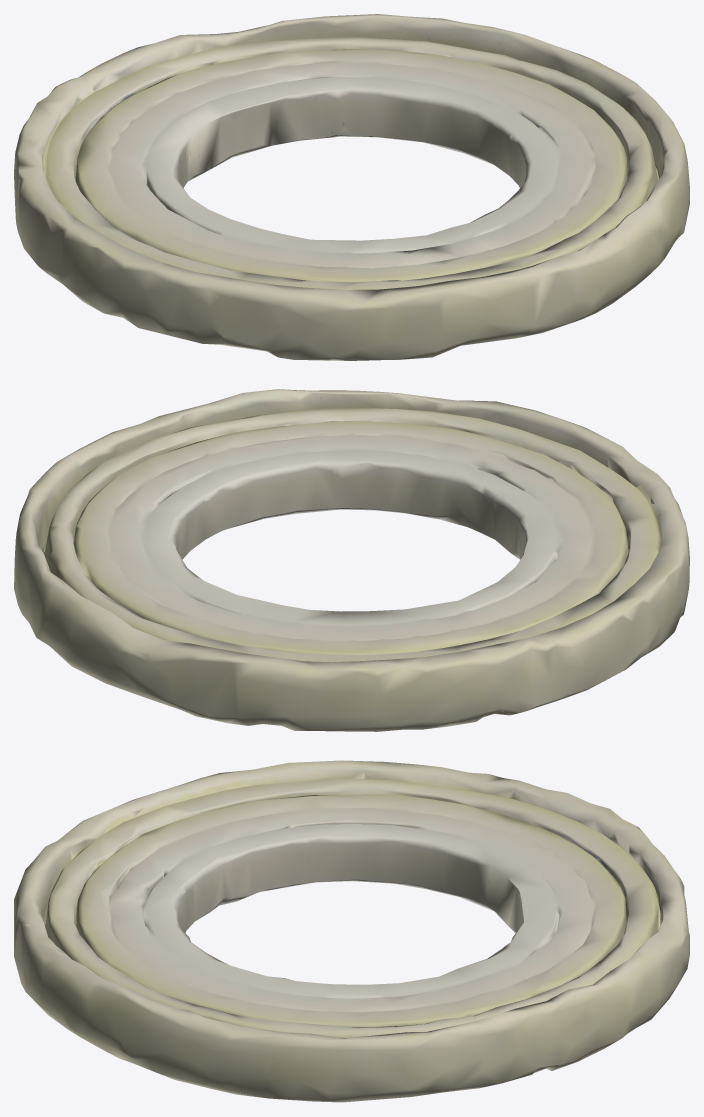
File: tripo_convert_8e7e6c00-59b3-47b3-8bbb-2fa0286667ba.fbx
3 views of the same model, one above another, from view 1: azimuth 30°, elevation 25°; view 2: azimuth 150°, elevation 25°; view 3: azimuth 270°, elevation 25° (orthographic).
Visible parts, largest first — view 1: tripo_node_8e7e6c00; view 2: tripo_node_8e7e6c00; view 3: tripo_node_8e7e6c00.
Boxes of the visible parts, left/top/right/bottom form: tripo_node_8e7e6c00: left=14, top=14, right=689, bottom=360; tripo_node_8e7e6c00: left=14, top=389, right=689, bottom=731; tripo_node_8e7e6c00: left=14, top=760, right=689, bottom=1102.
Bounding box in the file's own units: 0.9993 × 0.1188 × 1.
1 material, 1 textured.
